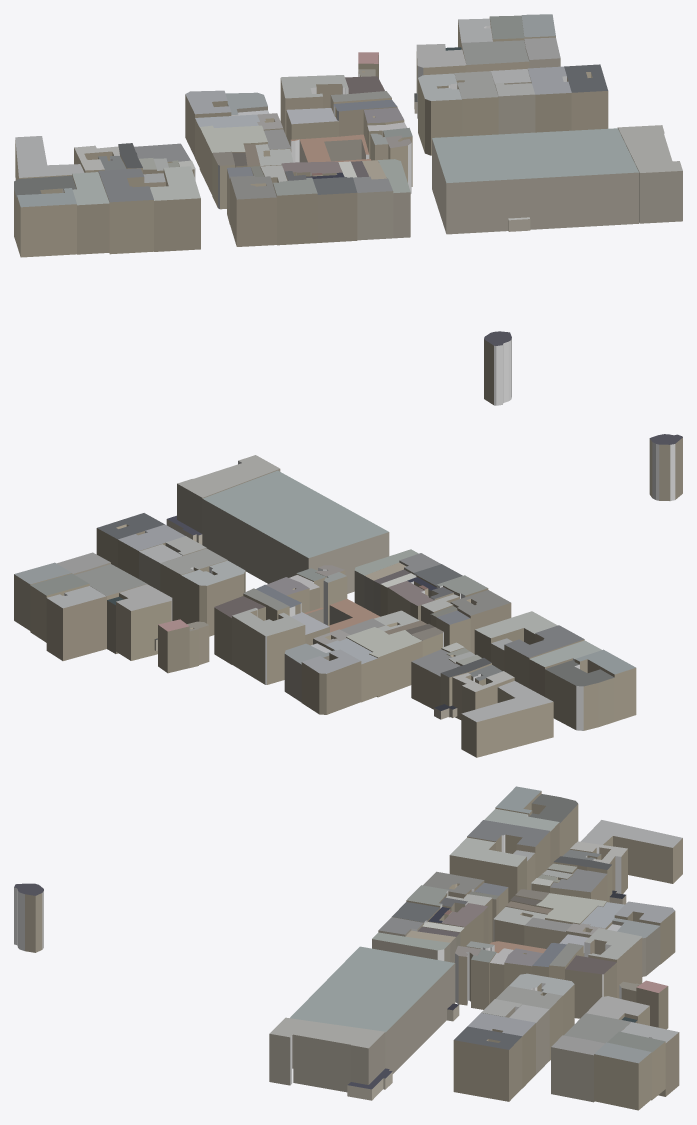
3 views of the same model, one above another, from view 1: azimuth 30°, elevation 25°; view 2: azimuth 150°, elevation 25°; view 3: azimuth 270°, elevation 25° (orthographic). The views are drawn at different scales.
Parts seen in each view (by area): view 1: tuile; view 2: tuile; view 3: tuile.
Part boxes in pixels (<box>): tuile: <box>14,14,682,405</box>; tuile: <box>14,434,682,757</box>; tuile: <box>14,786,682,1110</box>.
Size of the model in its own units: 262 by 26.73 by 267.
